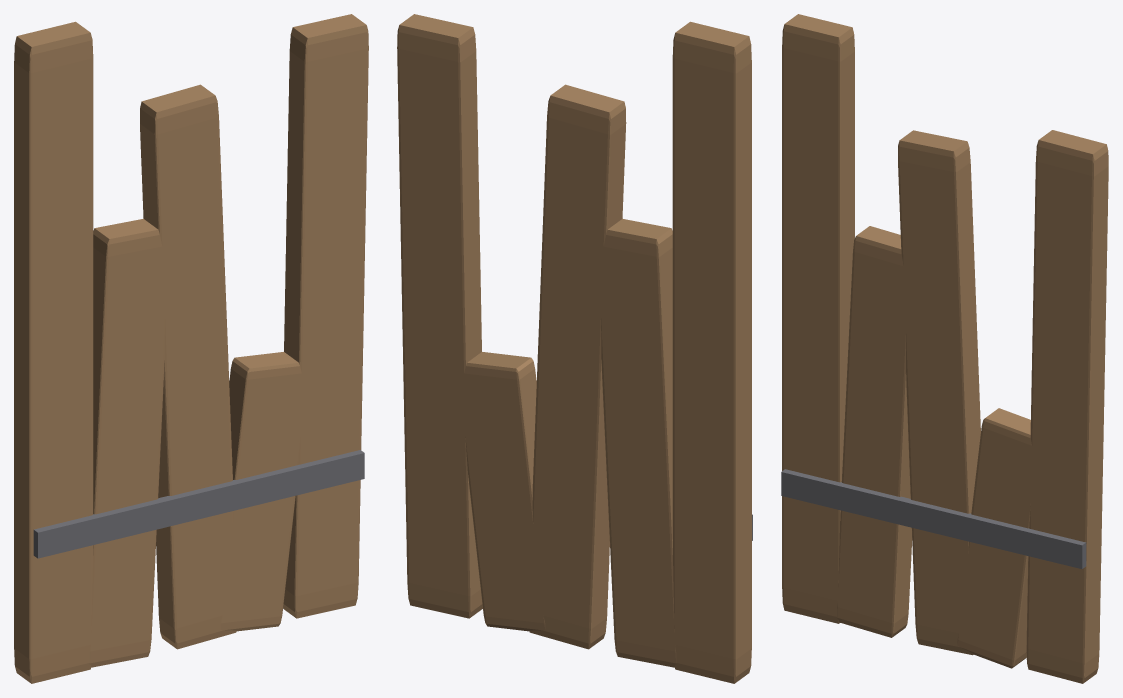
The model's file is Burg_Tor_kaputt.gltf.
The picture shows the model from 3 angles, left to right: view 1: azimuth 30°, elevation 25°; view 2: azimuth 150°, elevation 25°; view 3: azimuth 330°, elevation 25°; orthographic projection. The views are drawn at different scales.
Parts seen in each view (by area): view 1: Burg_Tor_kaputt; view 2: Burg_Tor_kaputt; view 3: Burg_Tor_kaputt.
Boxes of the visible parts, x1,y1,x2,y2 form: Burg_Tor_kaputt: (14, 14, 368, 683); Burg_Tor_kaputt: (397, 14, 752, 683); Burg_Tor_kaputt: (781, 14, 1108, 683).
Bounding box in the file's own units: 3.02 × 5.42 × 0.315.
